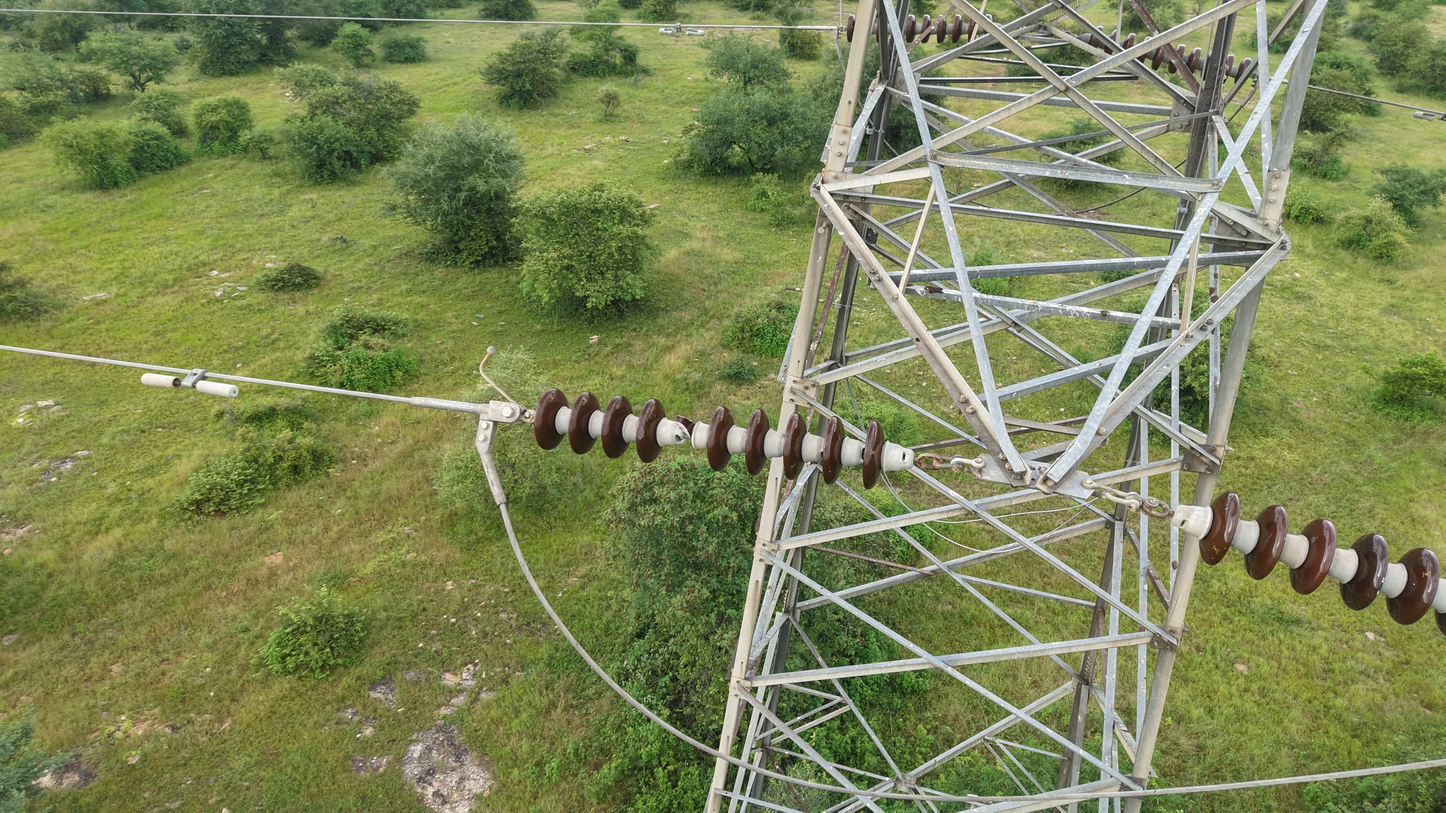broken_insulator: (668, 398, 703, 466)
